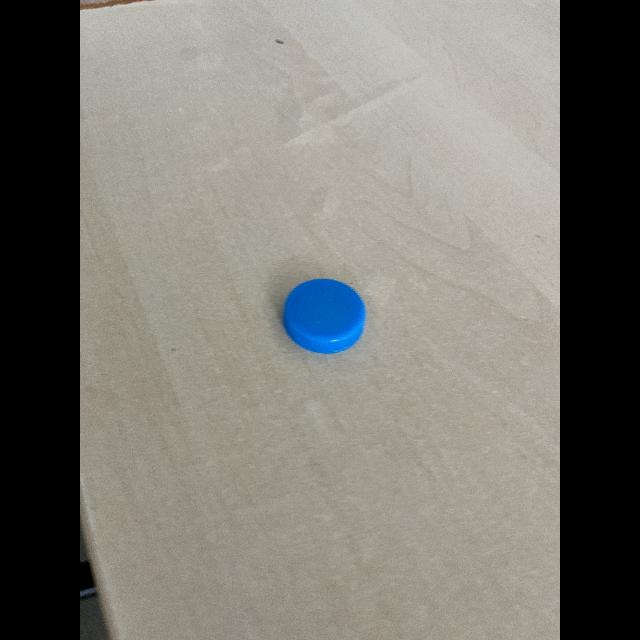plastic_bottle_cap: (280, 273, 368, 365)
